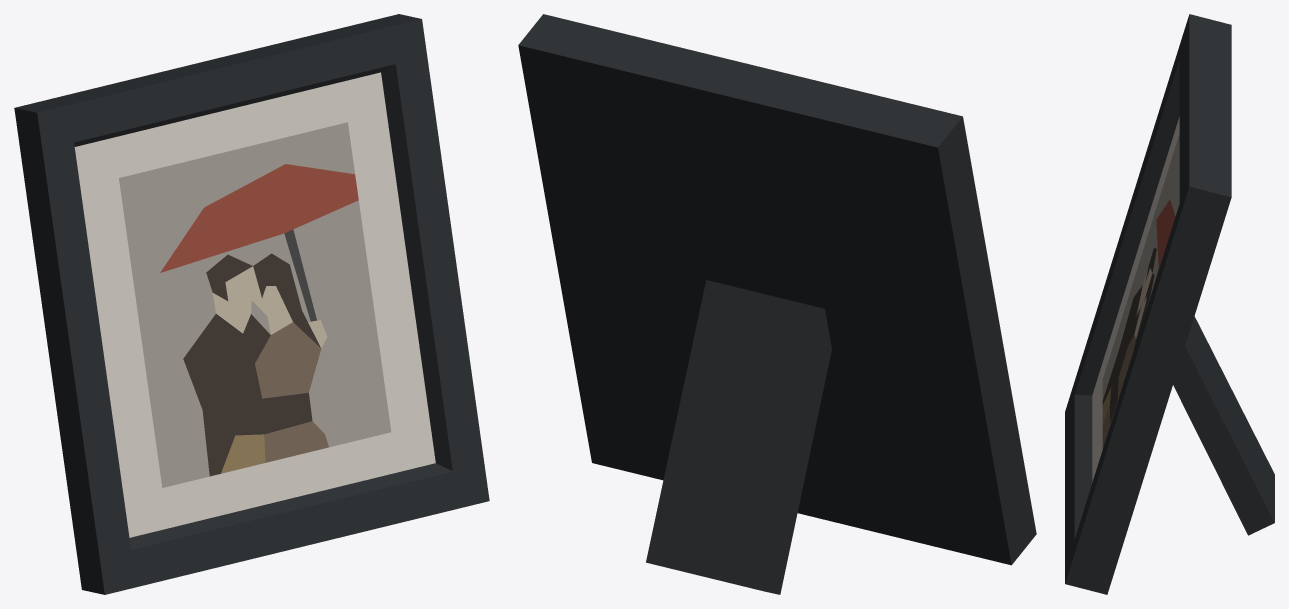
Rendered from SM_Prop_Art_Standing_03.fbx.
3 views of the same model, side by side, from view 1: azimuth 30°, elevation 25°; view 2: azimuth 150°, elevation 25°; view 3: azimuth 270°, elevation 25° (orthographic). The views are drawn at different scales.
Parts seen in each view (by area): view 1: SM_Prop_Art_Standing_03; view 2: SM_Prop_Art_Standing_03; view 3: SM_Prop_Art_Standing_03.
Boxes of the visible parts, <box> form: SM_Prop_Art_Standing_03: <box>14,14,489,594</box>; SM_Prop_Art_Standing_03: <box>518,14,1036,594</box>; SM_Prop_Art_Standing_03: <box>1065,14,1274,594</box>.
Bounding box in the file's own units: 46.13 × 51.37 × 23.69.
